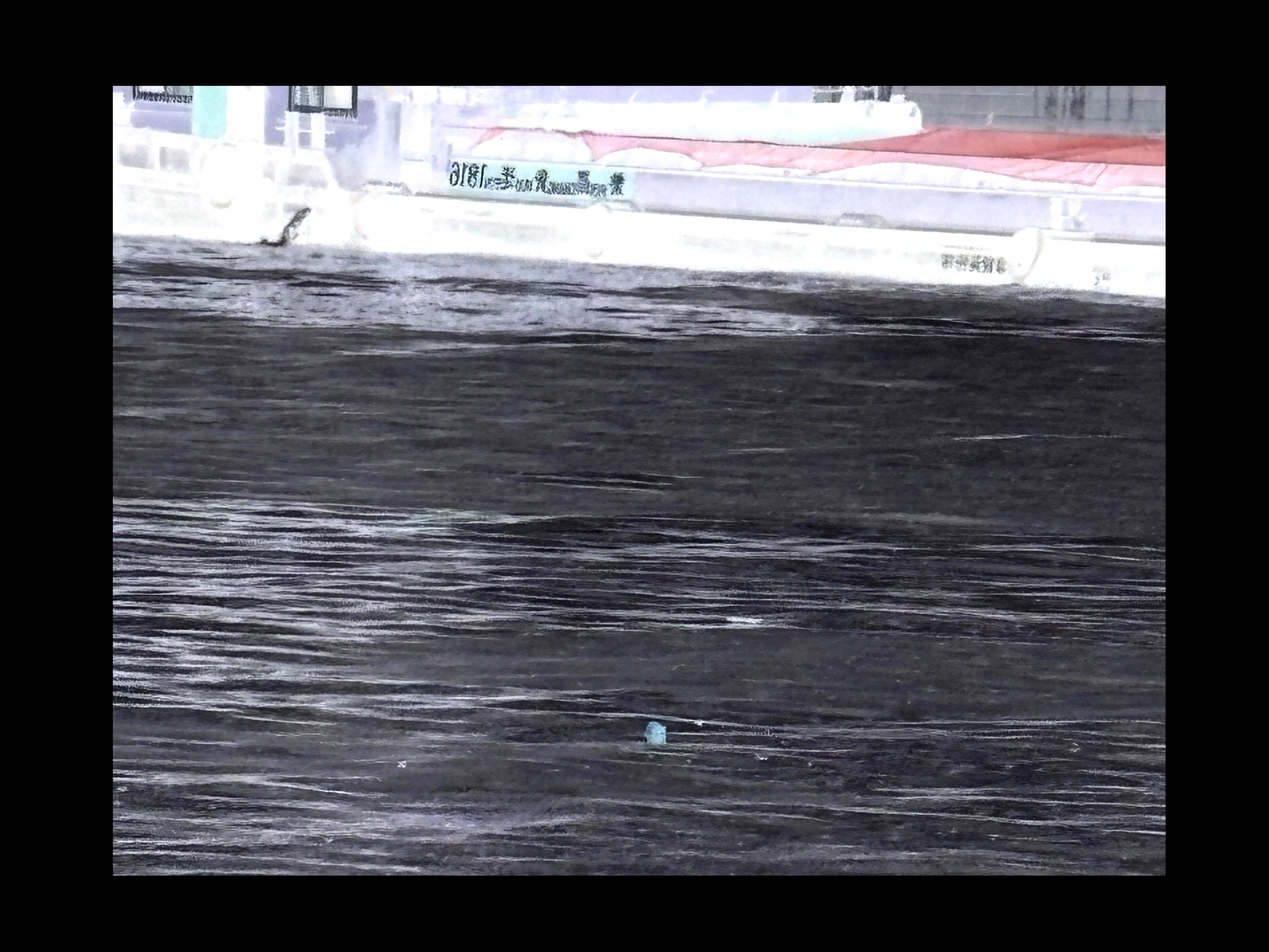Natural wastes: (722, 610, 764, 631)
Plastic wastes: (643, 720, 668, 743)
